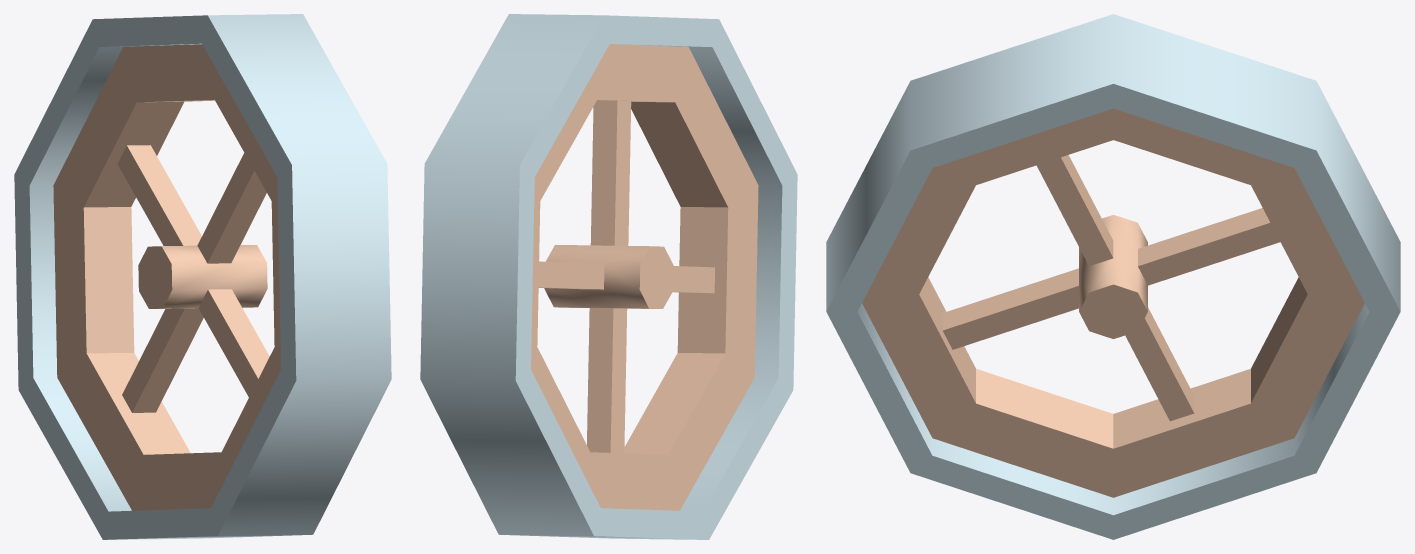
3 views of the same model, side by side, from view 1: azimuth 30°, elevation 25°; view 2: azimuth 150°, elevation 25°; view 3: azimuth 270°, elevation 25° (orthographic).
Parts seen in each view (by area): view 1: wheel; view 2: wheel; view 3: wheel.
Part boxes in pixels (<box>): wheel: <box>14,14,391,539</box>; wheel: <box>420,14,797,539</box>; wheel: <box>826,14,1400,539</box>.
Bounding box in the file's own units: 0.2076 × 0.5162 × 0.5063.
